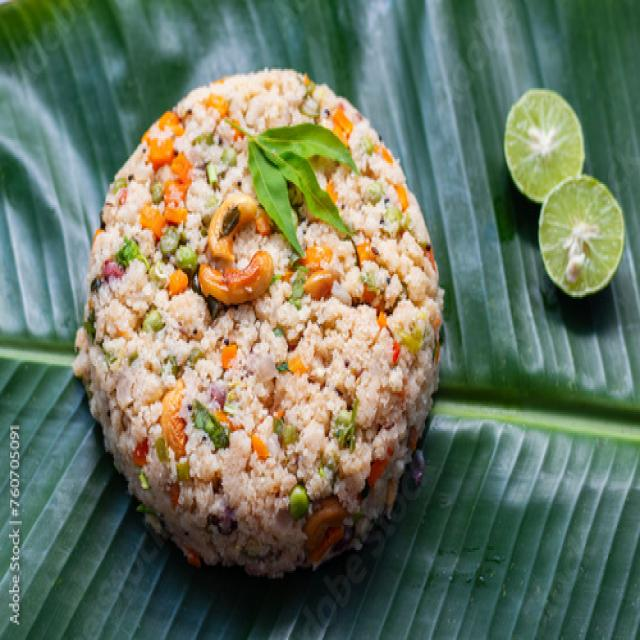UPMA: (86, 69, 438, 522)
